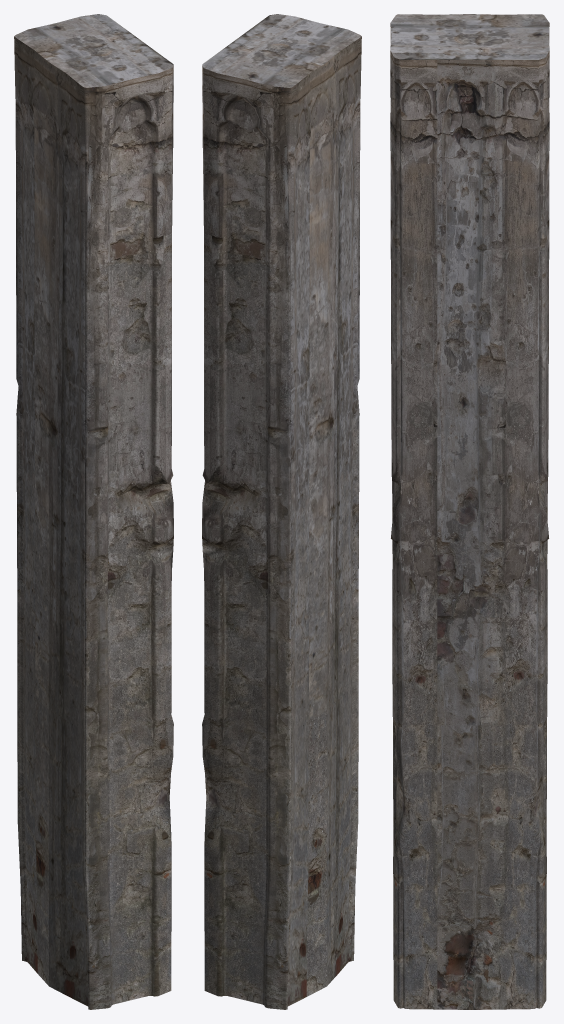
Rendered from SM_ChapelColumn_03_02.fbx.
3 views of the same model, side by side, from view 1: azimuth 30°, elevation 25°; view 2: azimuth 150°, elevation 25°; view 3: azimuth 270°, elevation 25° (orthographic). The views are drawn at different scales.
Visible parts, largest first — view 1: sm_ChapelColumn_03_02_LOD0; view 2: sm_ChapelColumn_03_02_LOD0; view 3: sm_ChapelColumn_03_02_LOD0.
Boxes of the visible parts, x1=… form: sm_ChapelColumn_03_02_LOD0: x1=14, y1=14, x2=173, y2=1009; sm_ChapelColumn_03_02_LOD0: x1=202, y1=14, x2=361, y2=1009; sm_ChapelColumn_03_02_LOD0: x1=390, y1=14, x2=549, y2=1009.
Size of the model in its own units: 57.17 by 38.92 by 375.
